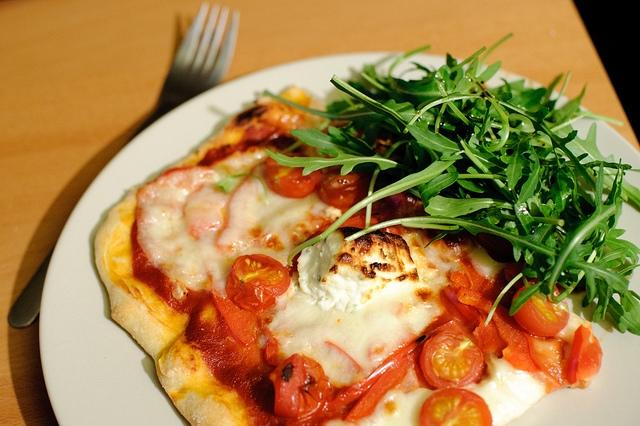tomato: (323, 334, 427, 412), (456, 286, 542, 373), (342, 349, 422, 422), (270, 354, 332, 425), (226, 254, 292, 316), (419, 330, 484, 388), (512, 278, 570, 337), (420, 388, 493, 426), (212, 289, 258, 346), (263, 156, 323, 199), (566, 325, 604, 385), (380, 194, 431, 236), (318, 172, 370, 212), (472, 307, 508, 359), (324, 341, 364, 374)
